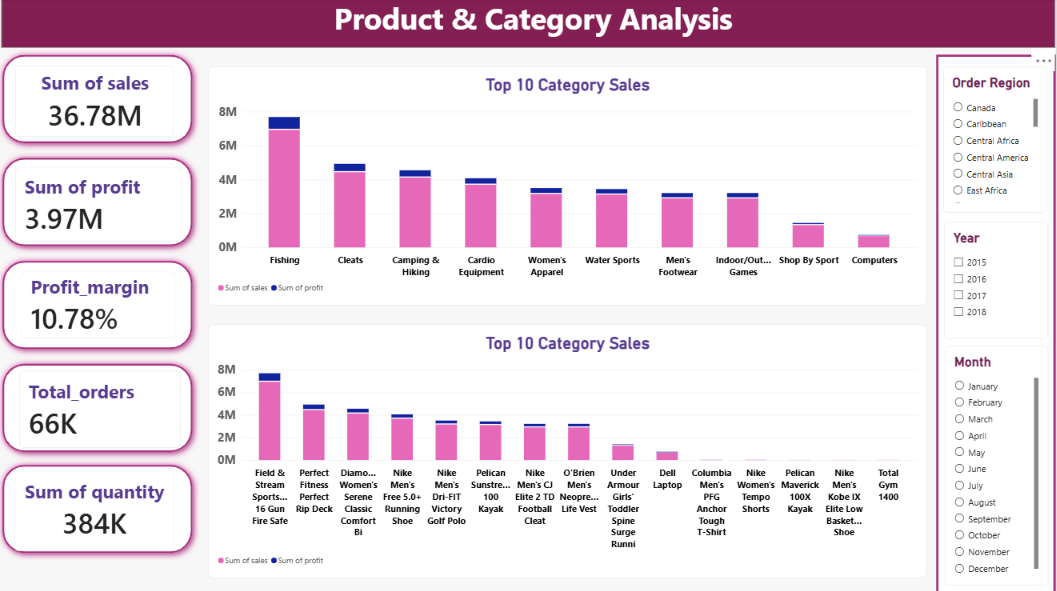

The page's visual inventory and layout, read from the dashboard file:
{"tool":"powerbi","page":{"name":"Product & category Analysis","canvas":[1920,1080],"ordinal":2},"visuals":[{"type":"shape","box":[1702,104,218,976],"z":0},{"type":"shape","box":[0,649.2,370.1,186.1],"z":1000},{"type":"shape","box":[0,833.2,370.1,186.1],"z":2000},{"type":"shape","box":[0,463.1,370.1,186.1],"z":3000},{"type":"shape","box":[0,277,370.1,186.1],"z":4000},{"type":"shape","box":[0,90.9,370.1,186.1],"z":5000},{"type":"shape","box":[10.9,0,1909.2,90.5],"z":6000},{"type":"textbox","box":[68.8,0,1809.7,74.2],"z":7000},{"type":"cardVisual","fields":{"Data":["Sum(supply_chain order_items.sales)"]},"box":[36.8,123.4,287.8,129.8],"z":8000},{"type":"cardVisual","fields":{"Data":["Sum(supply_chain order_items.profit)"]},"box":[36.8,307.3,303,134.2],"z":9000},{"type":"cardVisual","fields":{"Data":["supply_chain order_items.Profit_margin"]},"box":[47.6,495.6,279.2,121.2],"z":10000},{"type":"cardVisual","fields":{"Data":["Sum(supply_chain order_items.quantity)"]},"box":[34.6,850.5,290,151.5],"z":11000},{"type":"cardVisual","fields":{"Data":["supply_chain customers.Total_orders"]},"box":[43.3,675.2,292.2,140.7],"z":12000},{"type":"columnChart","title":"Top 10 Category Sales","fields":{"Category":["supply_chain products.category_name"],"Y":["Sum(supply_chain order_items.sales)","Sum(supply_chain order_items.profit)"]},"box":[386,124,1300,432],"z":13000},{"type":"listSlicer","title":"Order Region","fields":{"Values":["supply_chain orders.order_region"]},"box":[1716,124,188,264],"z":15000},{"type":"listSlicer","fields":{"Values":["supply_chain orders.order_date.Variation.Date Hierarchy.Year"]},"box":[1718,406,188,212],"z":16000},{"type":"listSlicer","fields":{"Values":["supply_chain orders.order_date.Variation.Date Hierarchy.Month"]},"box":[1720,630,186,434],"z":17000},{"type":"columnChart","title":"Top 10 Category Sales","fields":{"Category":["supply_chain products.product_name"],"Y":["Sum(supply_chain order_items.sales)","Sum(supply_chain order_items.profit)"]},"box":[386,592,1300,458],"z":17001}]}

Visuals, with their boxes in screenshot pixels (x1, y1, x2, y2), scaled from the page's 1920x1080 canvas onto the 1057x591 screenshot:
shape: (937,57,1056,590)
shape: (0,355,204,457)
shape: (0,456,204,558)
shape: (0,253,204,355)
shape: (0,152,204,253)
shape: (0,50,204,152)
shape: (6,0,1056,50)
textbox: (38,0,1034,41)
cardVisual - Sum(supply_chain order_items.sales): (20,68,179,139)
cardVisual - Sum(supply_chain order_items.profit): (20,168,187,242)
cardVisual - supply_chain order_items.Profit_margin: (26,271,180,338)
cardVisual - Sum(supply_chain order_items.quantity): (19,465,179,548)
cardVisual - supply_chain customers.Total_orders: (24,369,185,446)
"Top 10 Category Sales" columnChart: (213,68,928,304)
"Order Region" listSlicer: (945,68,1048,212)
listSlicer - supply_chain orders.order_date.Variation.Date Hierarchy.Year: (946,222,1049,338)
listSlicer - supply_chain orders.order_date.Variation.Date Hierarchy.Month: (947,345,1049,582)
"Top 10 Category Sales" columnChart: (213,324,928,575)
